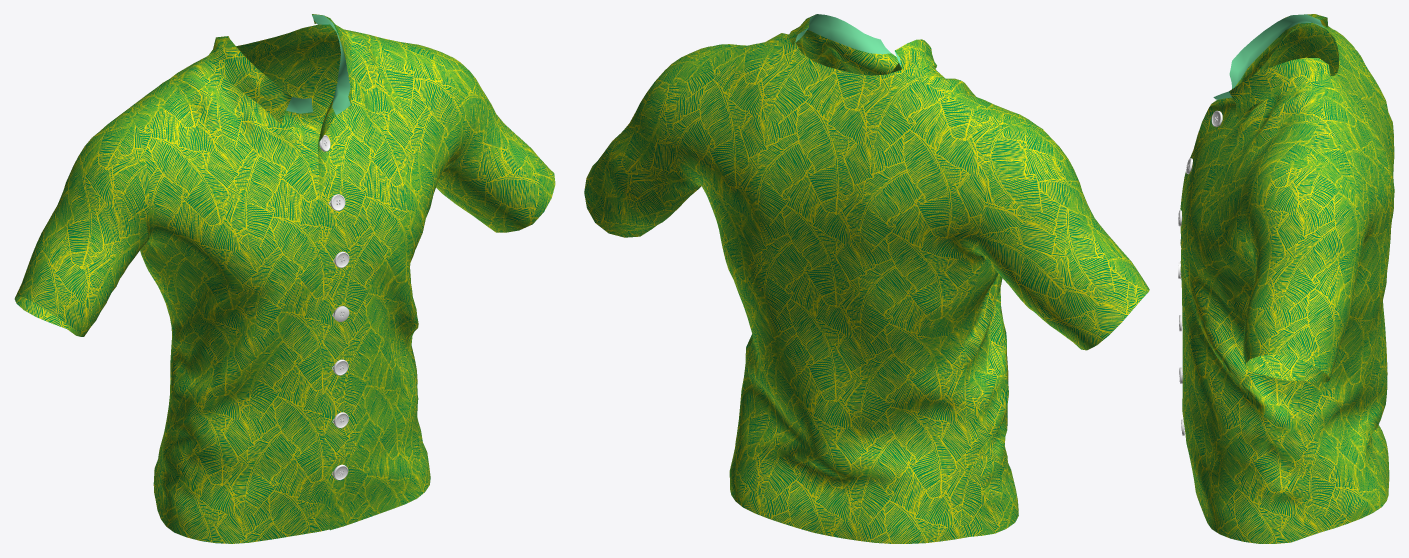
The model's file is Baju_Pendek.fbx.
3 renders of one model, left to right at view 1: azimuth 30°, elevation 25°; view 2: azimuth 150°, elevation 25°; view 3: azimuth 270°, elevation 25°, orthographic. The views are drawn at different scales.
Visible parts, largest first — view 1: Baju_pendek; view 2: Baju_pendek; view 3: Baju_pendek.
Part boxes in pixels (x1,y1,x2,y2): Baju_pendek: (14,14,555,543); Baju_pendek: (584,14,1149,543); Baju_pendek: (1178,14,1394,543).
Bounding box in the file's own units: 736 × 619 × 268.
Materials: 4 (2 with a texture image).
